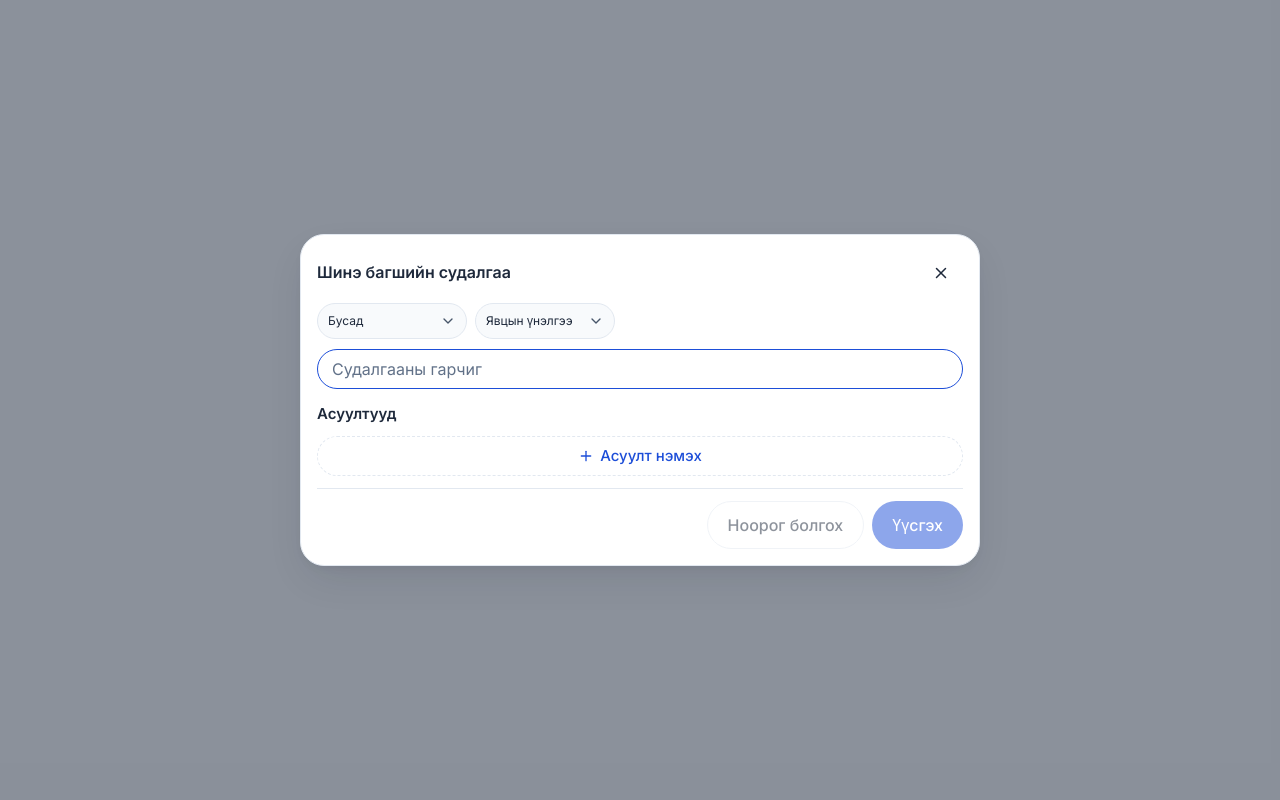
Scenario: single-page survey creation › shows category and assessment-period validation errors in Mongolian
Step 1. Click the button "Асуулт нэмэх" → {"x": 640, "y": 456}, box [317,436,963,476]
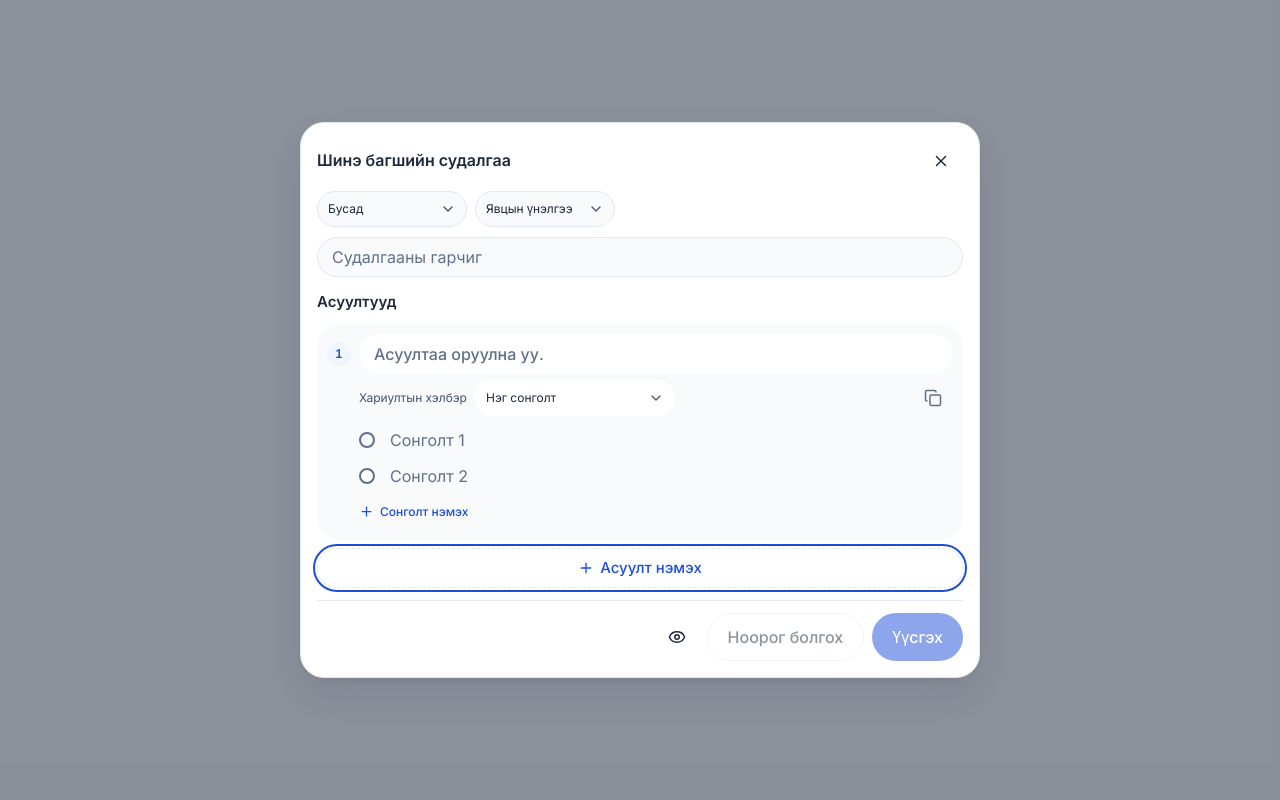
Step 2. Type "Хүүхэд тань дуртай юу?" into the field named "асуултын текст" → {"x": 656, "y": 354}, box [359,334,953,374]
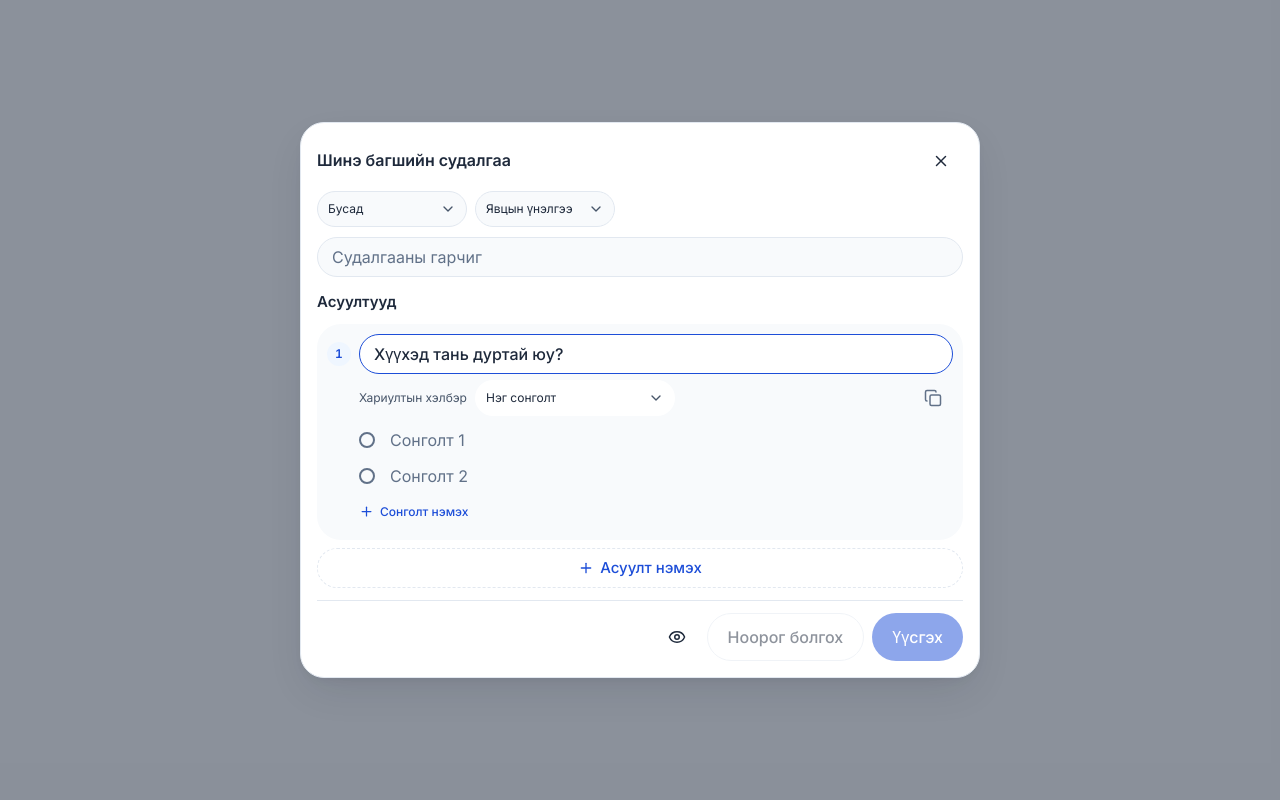
Step 3. Type "Тийм" into the field named "1-р сонголт" → {"x": 668, "y": 440}, box [383,422,953,458]
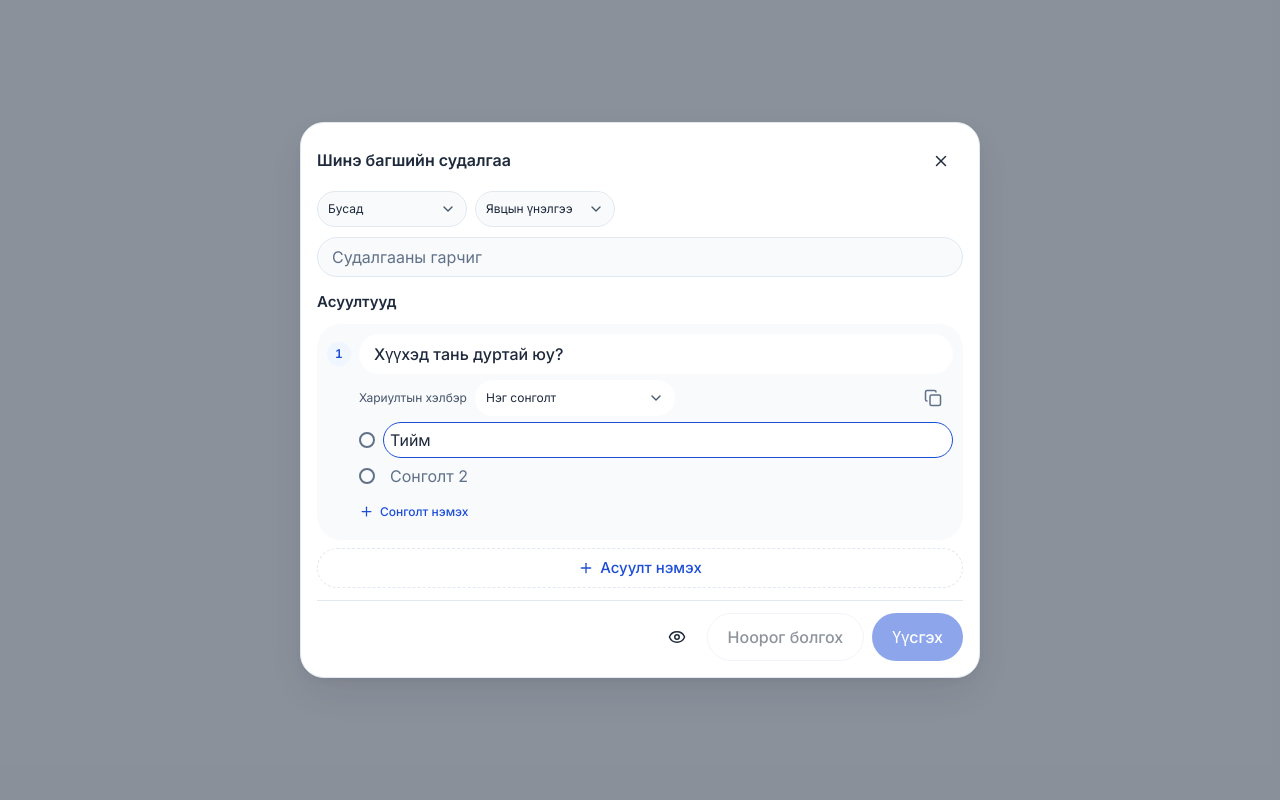
Step 4. Type "Үгүй" into the field named "2-р сонголт" → {"x": 668, "y": 476}, box [383,458,953,494]
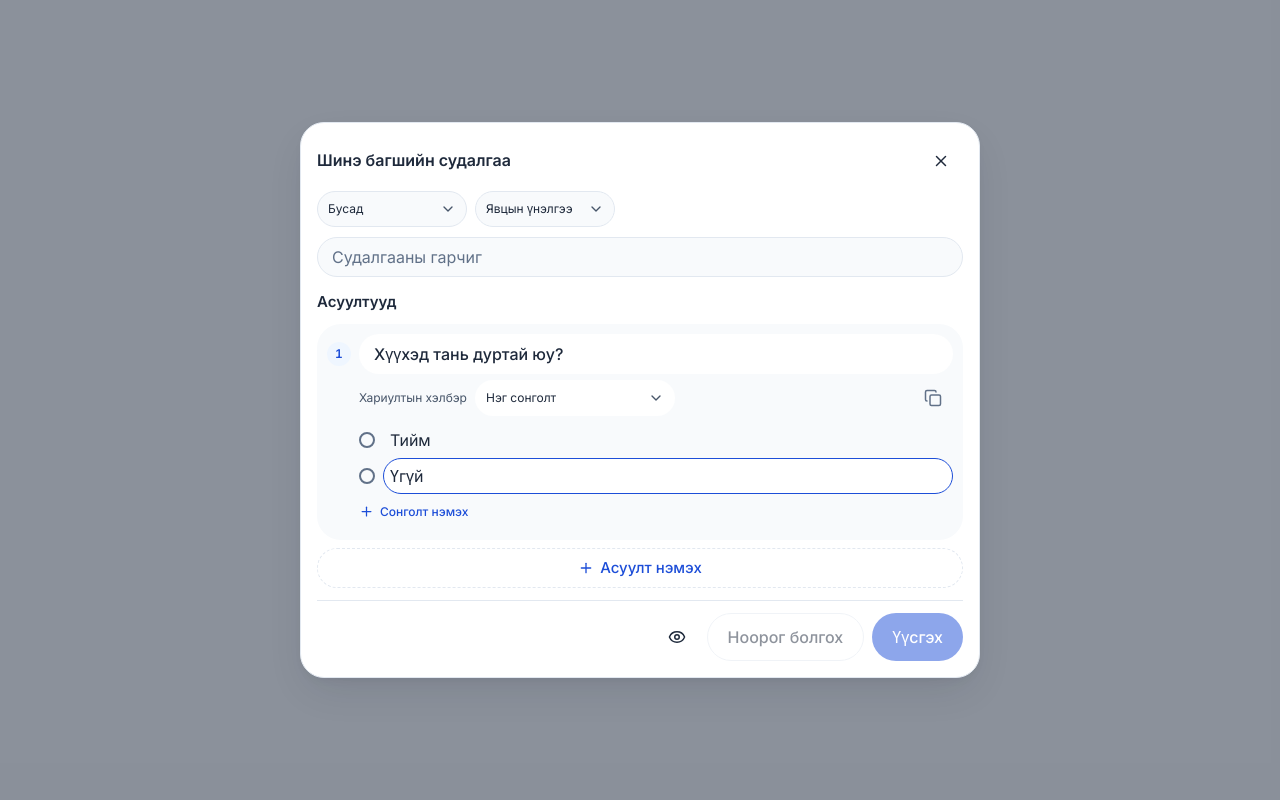
Step 5. Type "Хөгжлийн судалгаа" into the field labelled "Судалгааны гарчиг" → {"x": 640, "y": 257}, box [317,237,963,277]
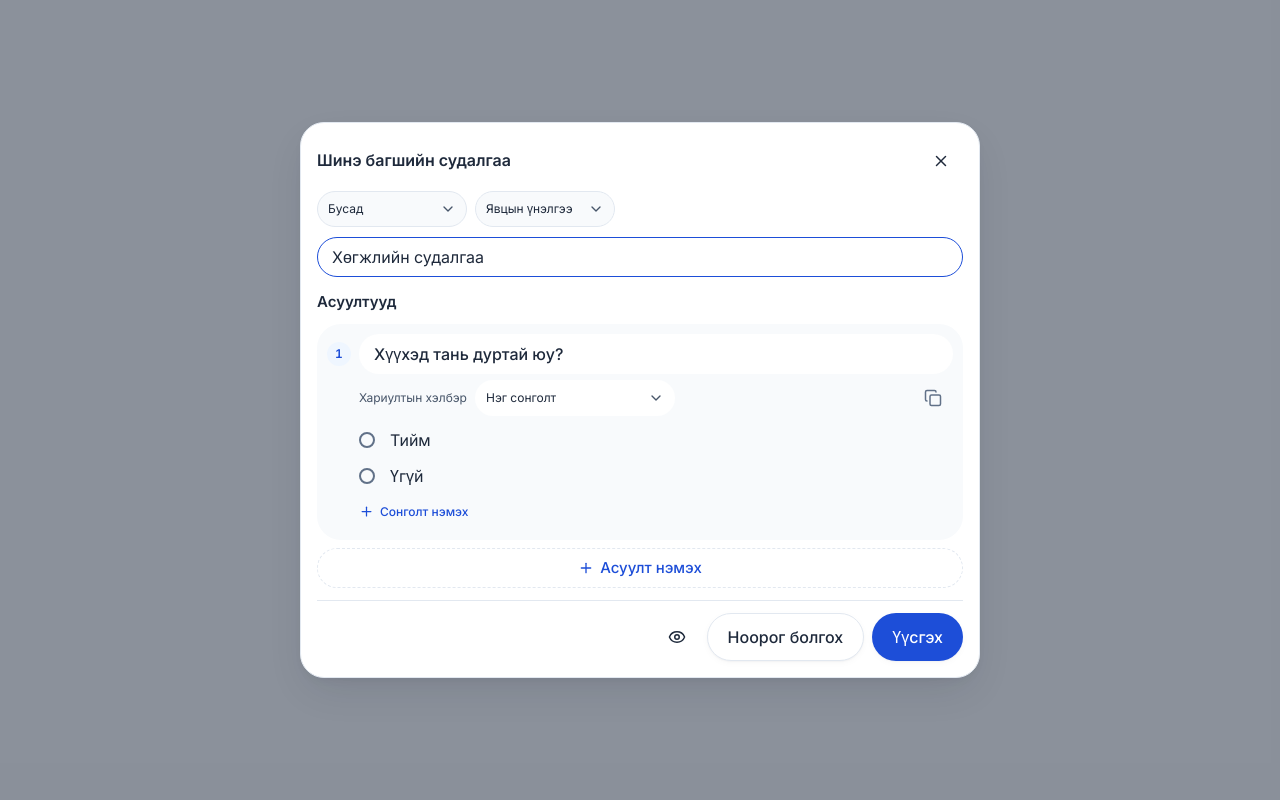
Step 6. Click the button "Үүсгэх" → {"x": 918, "y": 637}, box [872,613,963,661]
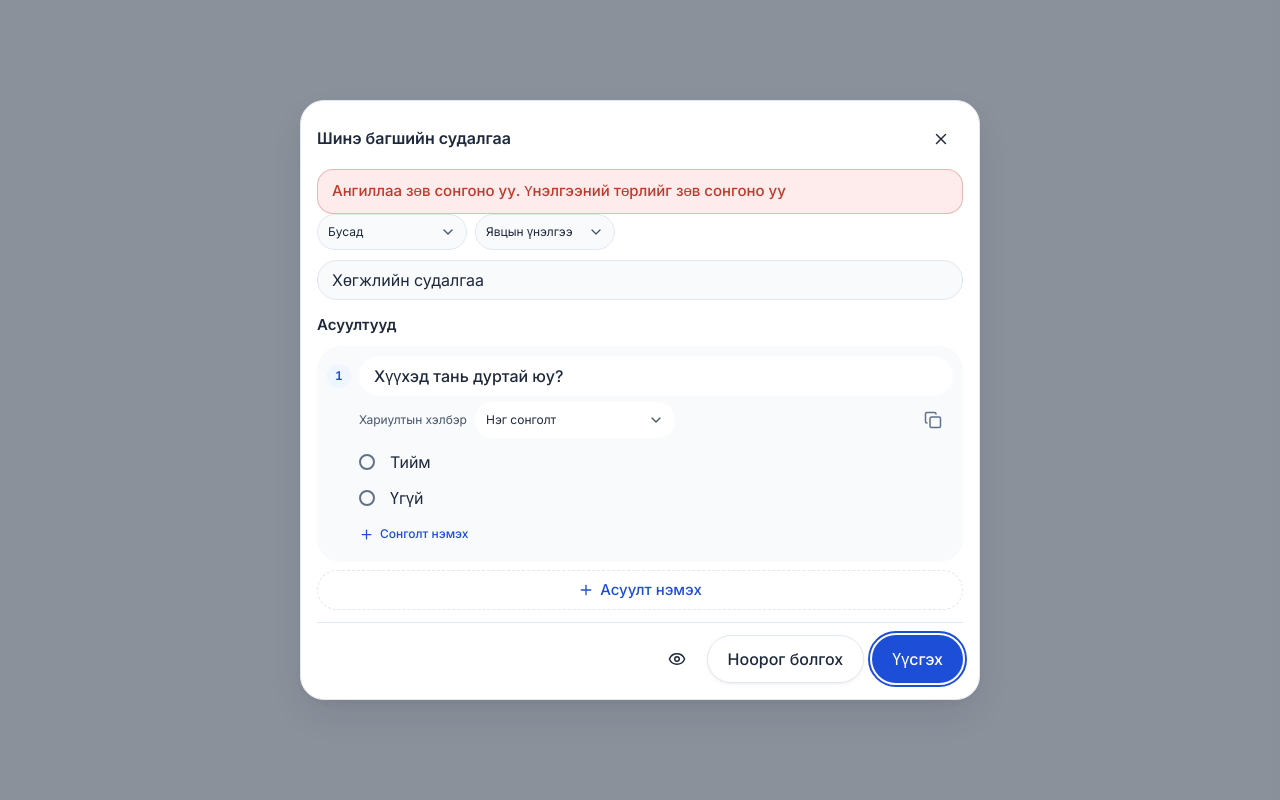
Now the text "Ангиллаа зөв сонгоно уу. Үнэлгээний төрлийг зөв сонгоно уу" is shown, box [317,169,963,214]
